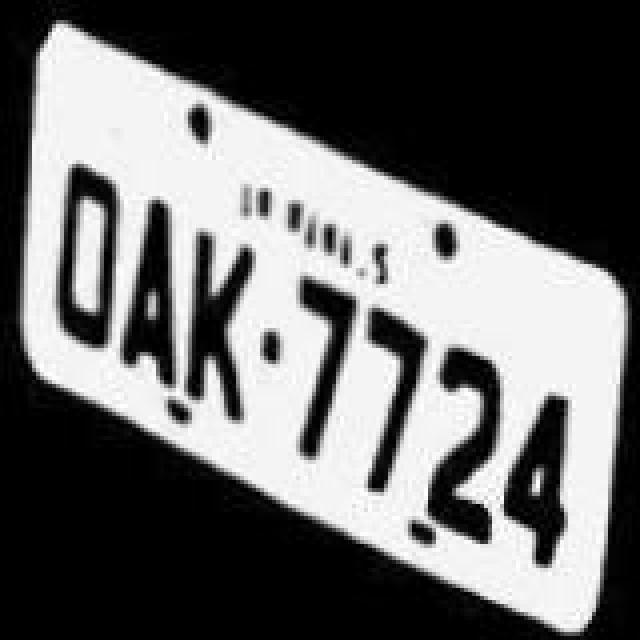2: (420, 330, 504, 550)
4: (492, 366, 580, 586)
7: (352, 294, 432, 498), (284, 264, 364, 460)
A: (118, 178, 186, 386)
K: (180, 216, 256, 428)
O: (44, 154, 124, 358)
